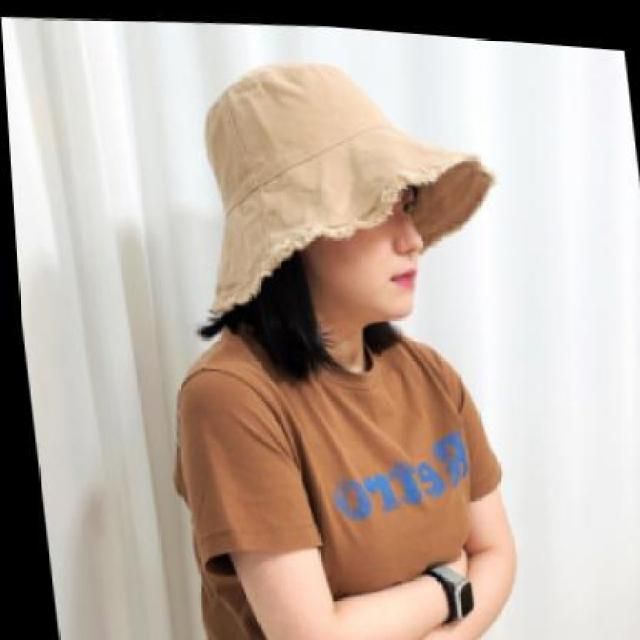hat: (201, 59, 492, 312)
